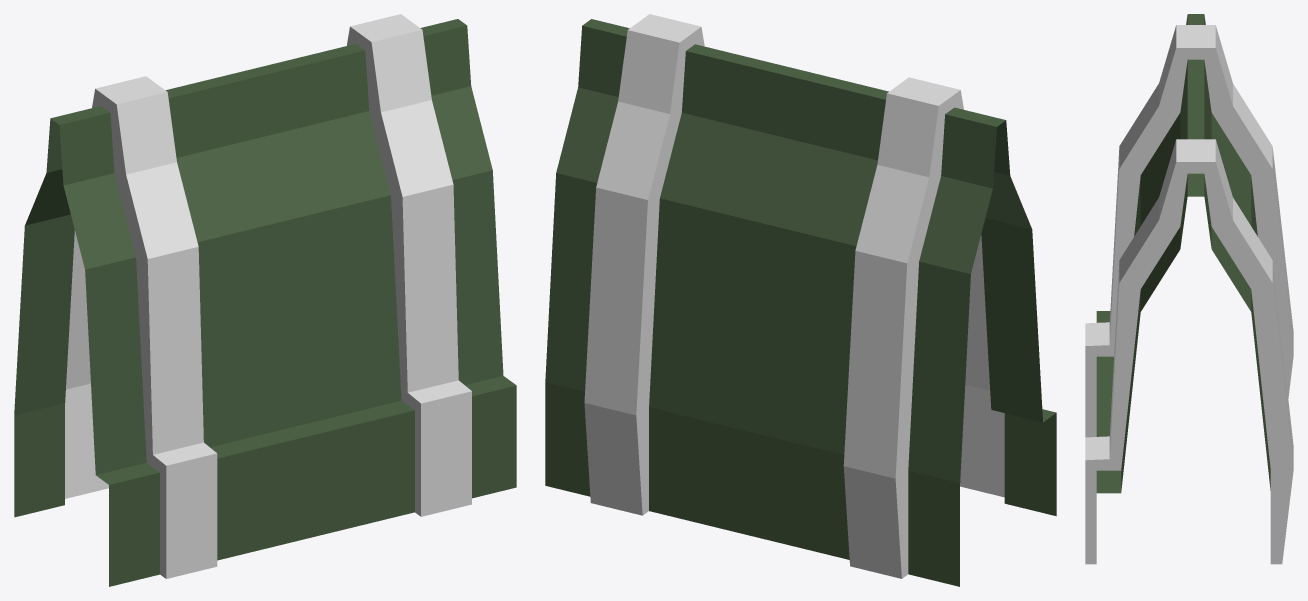
The model's file is Wand_Standard_Klein.fbx.
The picture shows the model from 3 angles, left to right: view 1: azimuth 30°, elevation 25°; view 2: azimuth 150°, elevation 25°; view 3: azimuth 270°, elevation 25°; orthographic projection. The views are drawn at different scales.
Parts seen in each view (by area): view 1: Wand_Standard_Klein; view 2: Wand_Standard_Klein; view 3: Wand_Standard_Klein.
Part boxes in pixels (x1,y1,x2,y2): Wand_Standard_Klein: (14,14,516,586); Wand_Standard_Klein: (545,14,1056,586); Wand_Standard_Klein: (1085,14,1293,564).
Size of the model in its own units: 100 by 103 by 48.26.
